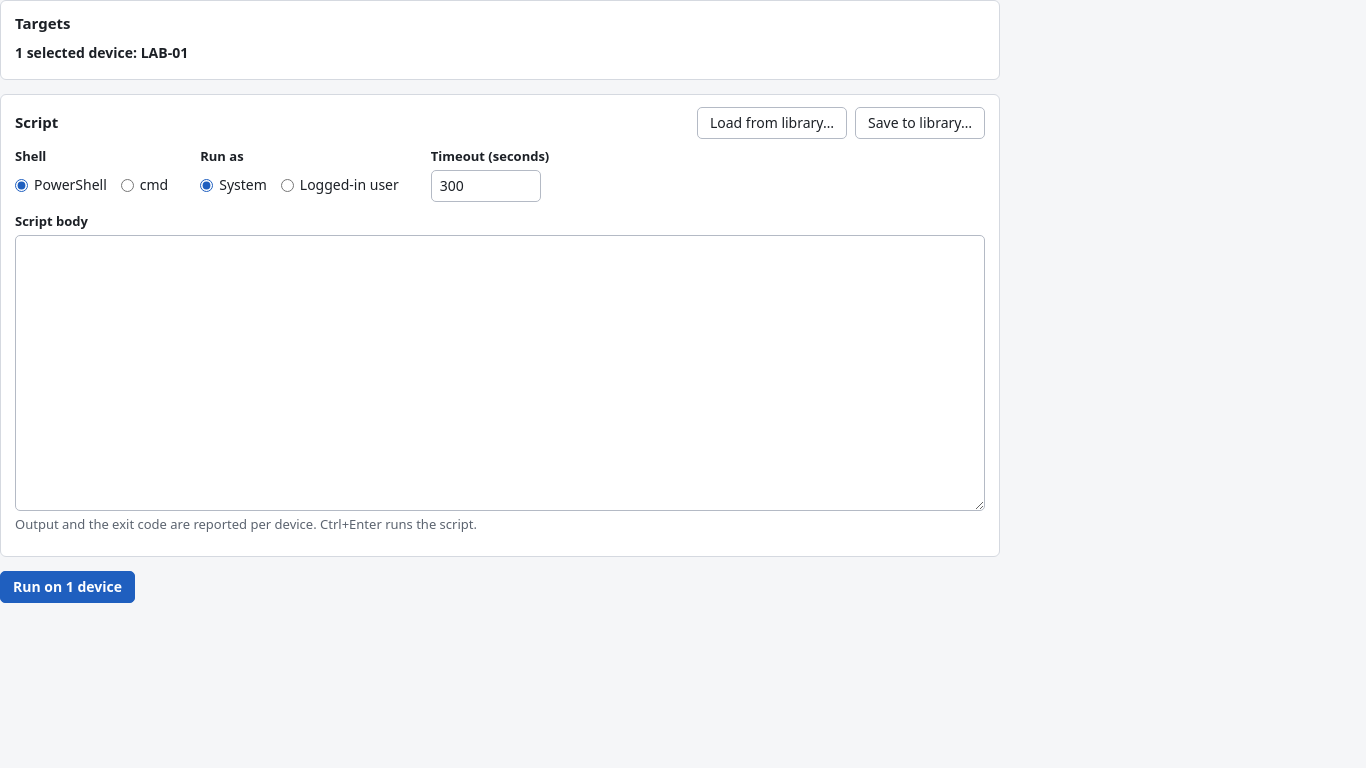
Test: Load from library › filters by name
Click the button "Load from library…" at x=772, y=123, box 697,107 -> 847,139
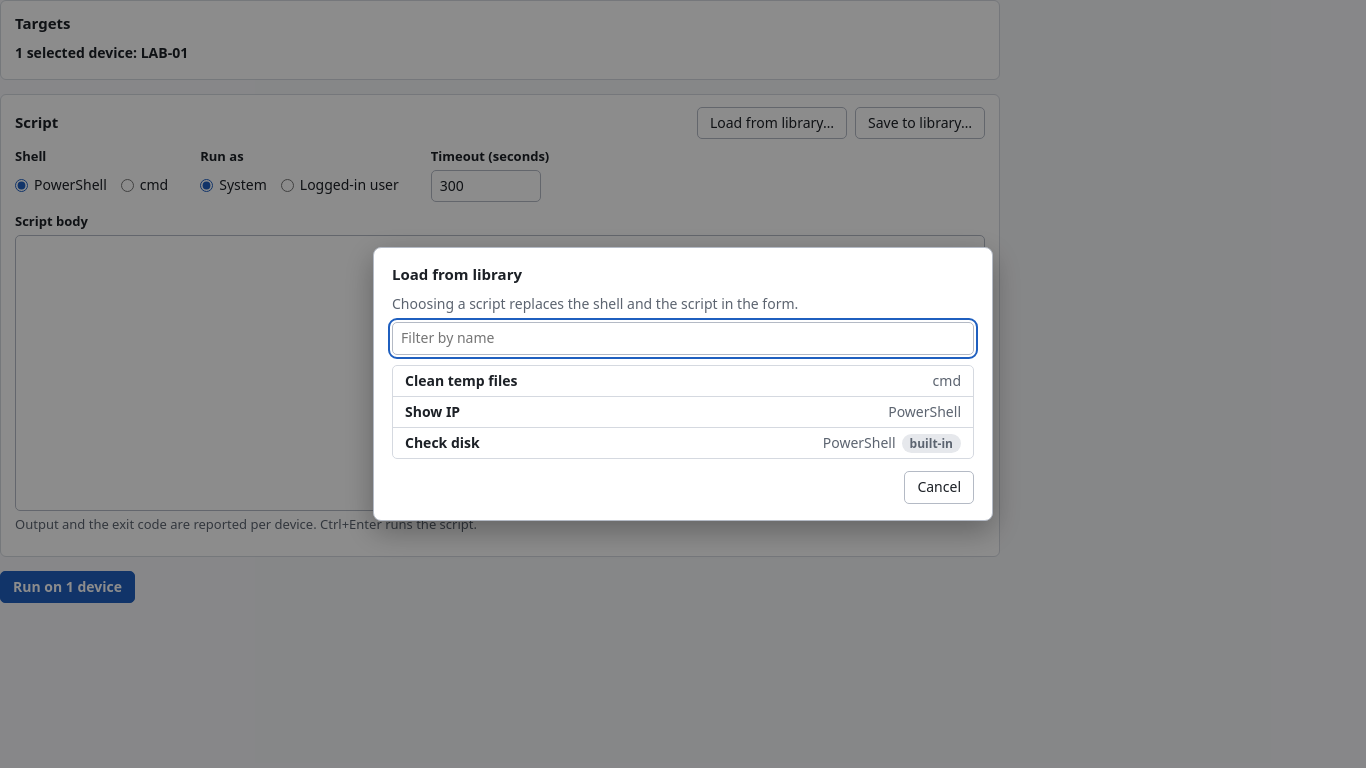
Check: the button "Show IP PowerShell" is shown, box 393,397 -> 973,427
Type "disk" into the search field at x=683, y=338, box 392,322 -> 974,355
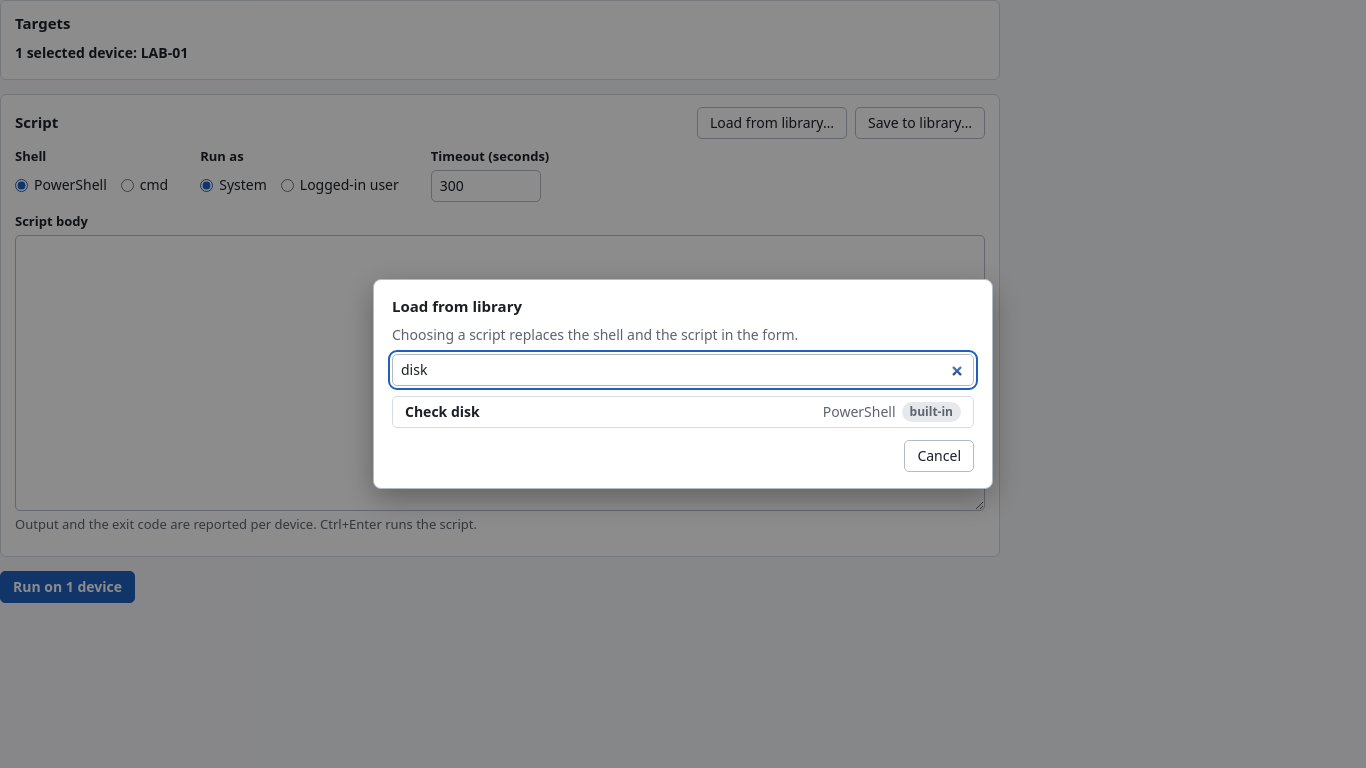
Check: the number of buttons "Check disk PowerShell built-in" is 1, box 393,397 -> 973,427
